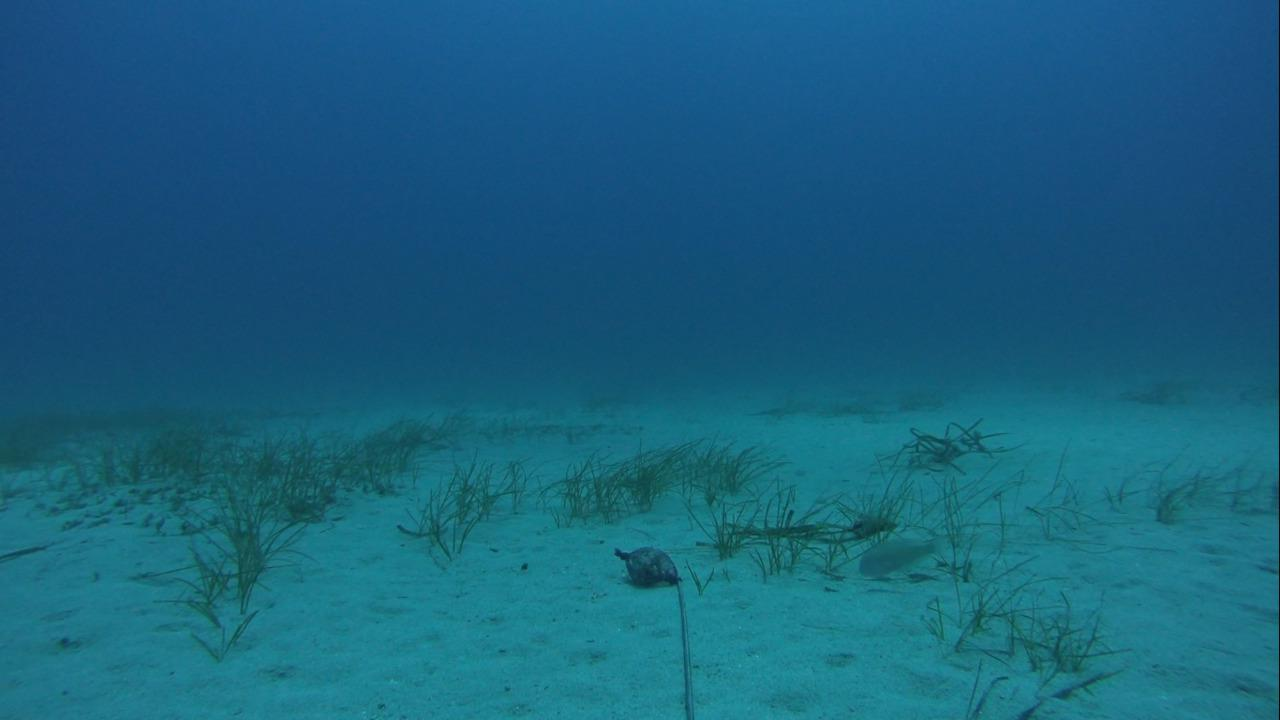raor: (858, 533, 942, 576)
